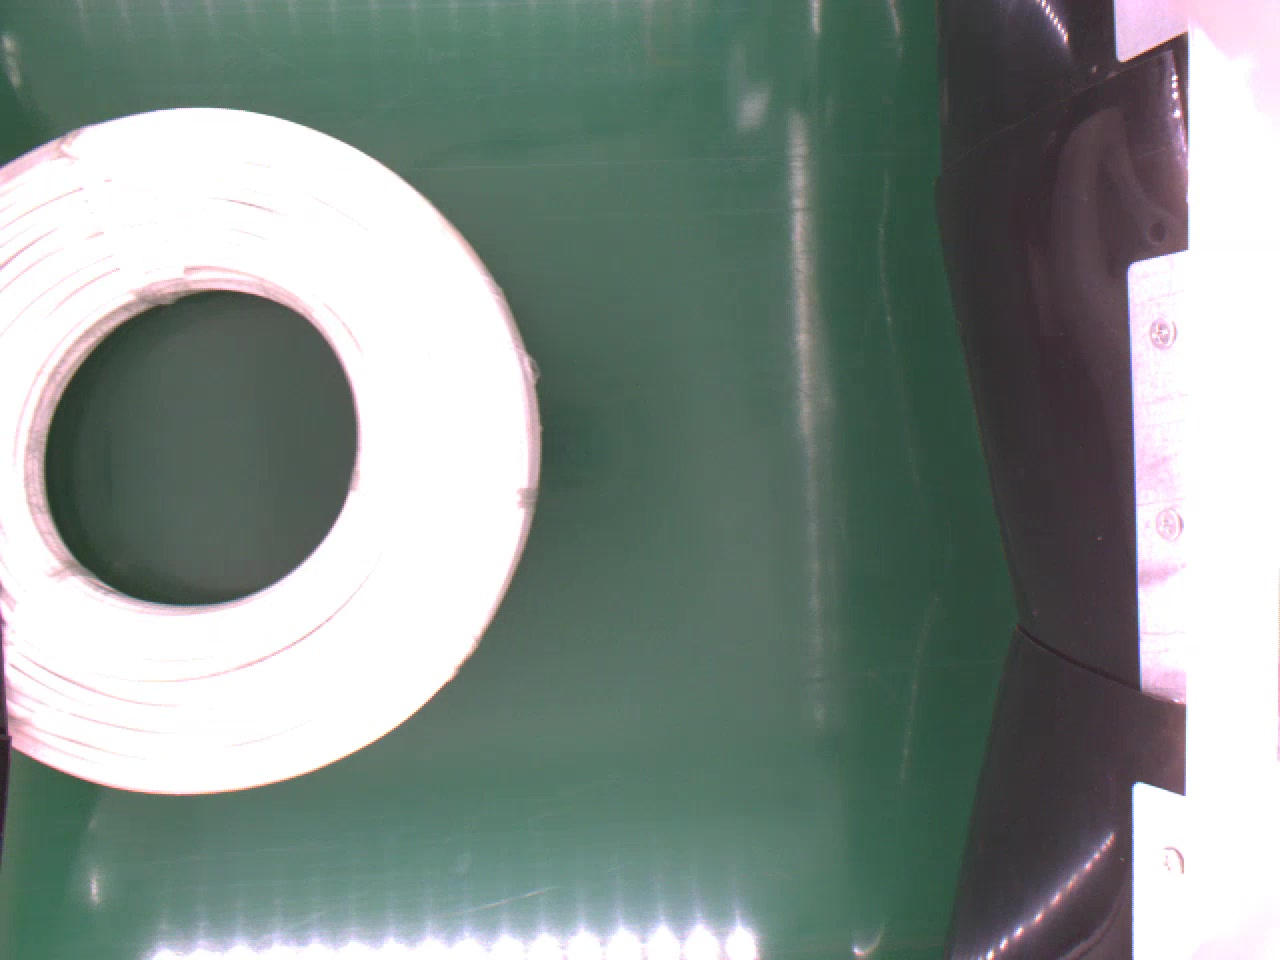white: (0, 106, 551, 798)
